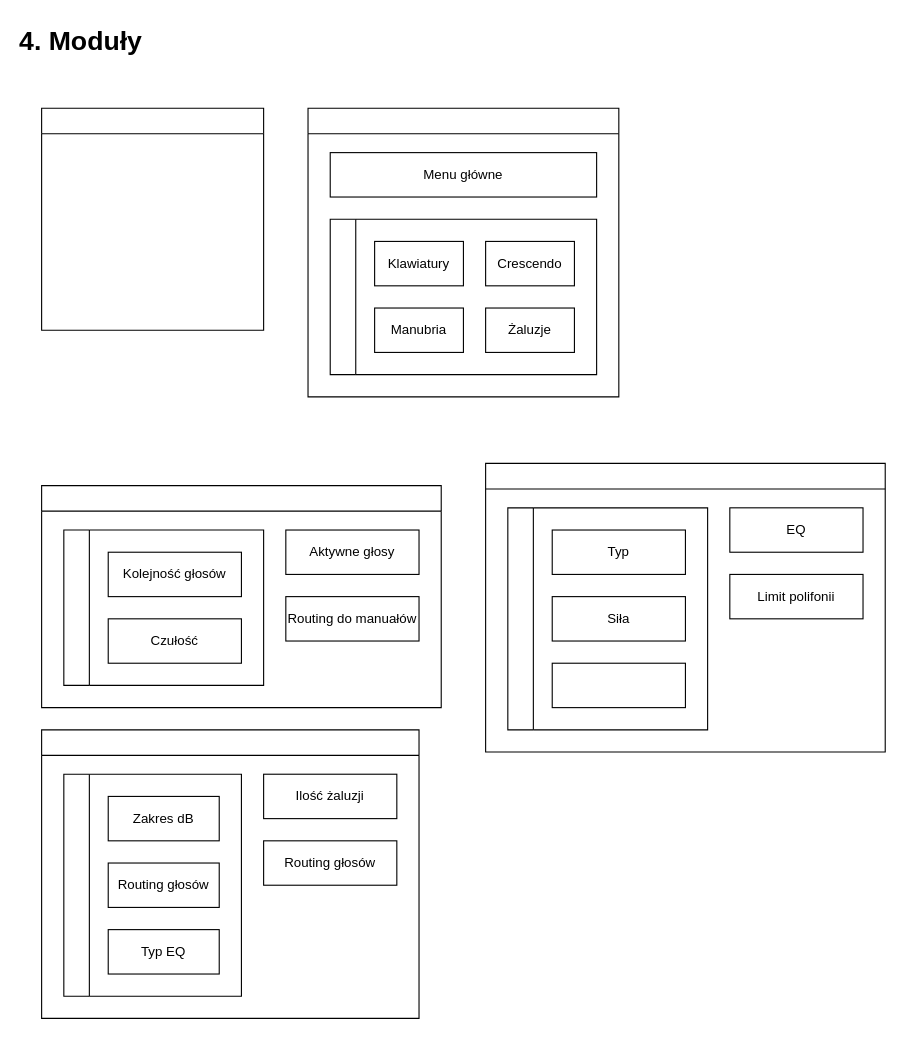
This 905x1038 diagram has some shape labels left out. Each missing label, with the box of its shape:
Konfiguracja crescendo: (63, 529, 264, 685)
Konfiguracja głosów: (41, 485, 441, 708)
Konfiguracja jednej żaluzji: (63, 773, 241, 996)
Konfiguracja organów: (41, 107, 264, 330)
Konfiguracja żaluzji: (41, 729, 419, 1018)
Konsola: (329, 218, 597, 375)
Okno główne: (307, 107, 619, 397)
Ustawienia pogłosu: (507, 507, 708, 730)
Ustawienia silnika dźwięku: (485, 462, 885, 752)
